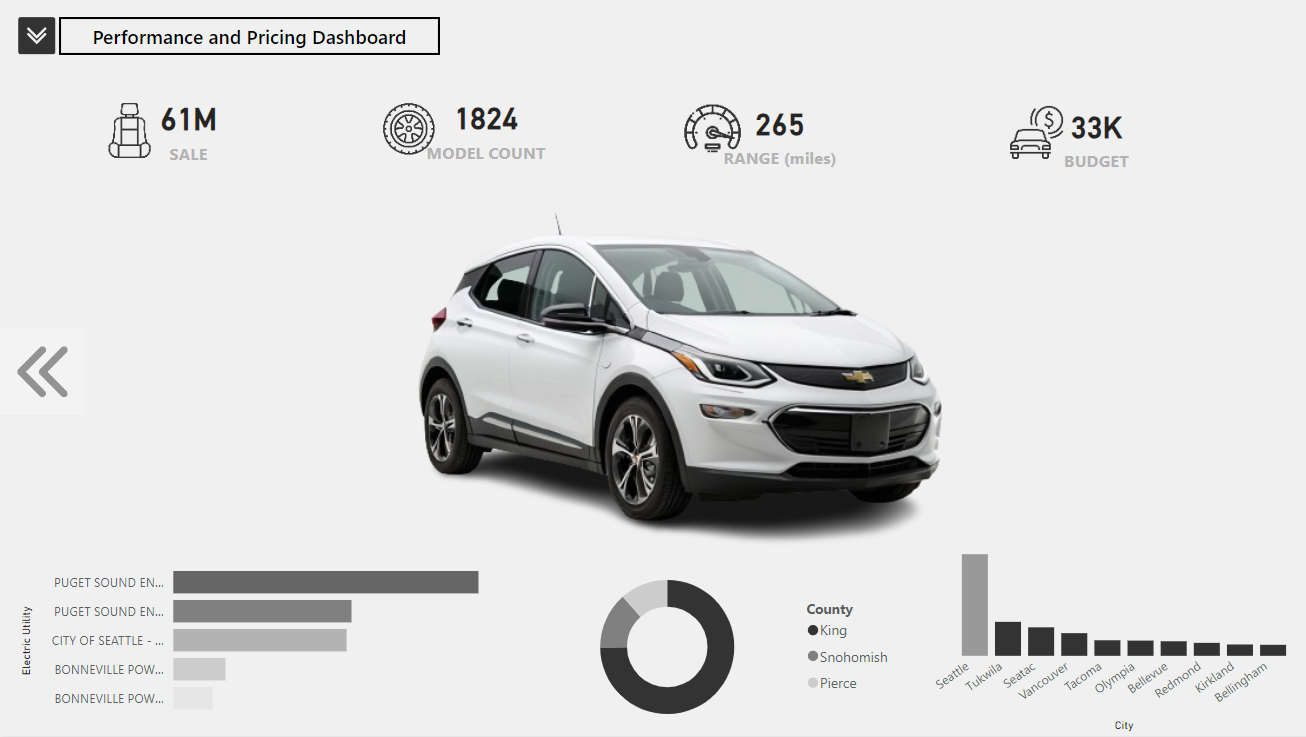

Layout of this report page (visuals, bound fields, positions):
{"tool":"powerbi","page":{"name":"CHEVROLET","canvas":[1280,720],"ordinal":4},"visuals":[{"type":"card","fields":{"Values":["Sum(new_cars_set2.Pricing($))"]},"box":[137.1,72.9,94.3,110.9],"z":0},{"type":"clusteredBarChart","fields":{"Category":["new_cars_set2.Electric Utility"],"Y":["CountNonNull(new_cars_set2.Electric Utility)"]},"box":[16.5,535,493.1,176],"z":1000},{"type":"clusteredColumnChart","fields":{"Category":["new_cars_set2.City"],"Y":["CountNonNull(new_cars_set2.City)"]},"box":[902.6,501.9,367.7,217.9],"z":2000},{"type":"donutChart","fields":{"Y":["CountNonNull(new_cars_set2.County)"],"Category":["new_cars_set2.County"]},"box":[509.7,546.6,368.6,173.1],"z":3000},{"type":"shape","box":[58.4,20.4,370.6,37],"z":4000},{"type":"image","box":[10.7,15.6,52.5,45.7],"z":5000},{"type":"image","box":[368.6,98.2,60.3,62.2],"z":6000},{"type":"image","box":[88.5,97.3,76.8,67.1],"z":7000},{"type":"image","box":[969.7,100.2,78.8,65.2],"z":8000},{"type":"image","box":[655.6,96.3,77.8,65.2],"z":9000},{"type":"card","fields":{"Values":["CountNonNull(new_cars_set2.Model)"]},"box":[398.8,52.5,149.8,150.8],"z":10000},{"type":"card","fields":{"Values":["Max(new_cars_set2.Electric Range(miles))"]},"box":[684.7,57.4,149.8,151.7],"z":11000},{"type":"card","fields":{"Values":["Max(new_cars_set2.Pricing($))"]},"box":[969.7,61.3,195.5,149.8],"z":12000},{"type":"image","box":[326.8,116.7,670.2,513.6],"z":13000},{"type":"actionButton","box":[0,322.8,84.2,85.1],"z":14000}]}

Visuals, with their boxes in screenshot pixels (x1, y1, x2, y2), scaled from the page's 1280x720 canvas onto the 1306x737 screenshot:
card - Sum(new_cars_set2.Pricing($)): [left=140, top=75, right=236, bottom=188]
clusteredBarChart - new_cars_set2.Electric Utility x CountNonNull(new_cars_set2.Electric Utility): [left=17, top=548, right=520, bottom=728]
clusteredColumnChart - new_cars_set2.City x CountNonNull(new_cars_set2.City): [left=921, top=514, right=1296, bottom=736]
donutChart - CountNonNull(new_cars_set2.County) x new_cars_set2.County: [left=520, top=560, right=896, bottom=736]
shape: [left=60, top=21, right=438, bottom=59]
image: [left=11, top=16, right=64, bottom=63]
image: [left=376, top=101, right=438, bottom=164]
image: [left=90, top=100, right=169, bottom=168]
image: [left=989, top=103, right=1070, bottom=169]
image: [left=669, top=99, right=748, bottom=165]
card - CountNonNull(new_cars_set2.Model): [left=407, top=54, right=560, bottom=208]
card - Max(new_cars_set2.Electric Range(miles)): [left=699, top=59, right=851, bottom=214]
card - Max(new_cars_set2.Pricing($)): [left=989, top=63, right=1189, bottom=216]
image: [left=333, top=119, right=1017, bottom=645]
actionButton: [left=0, top=330, right=86, bottom=418]
